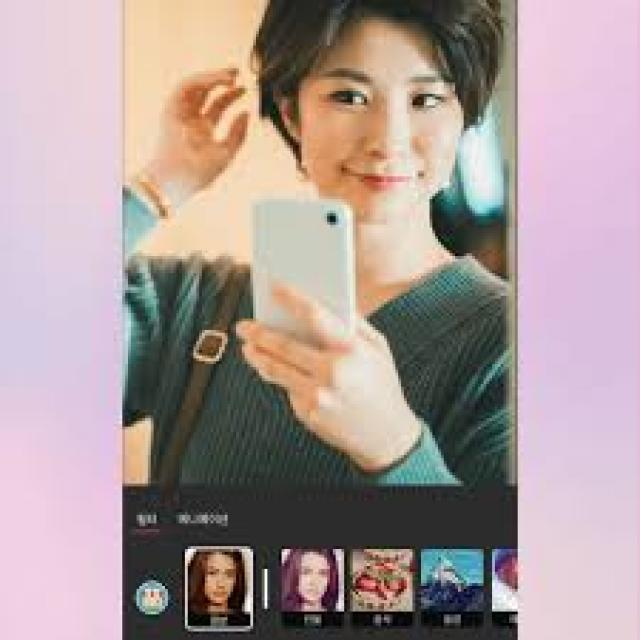Phone: (248, 195, 361, 389)
